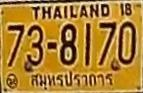0: (118, 20, 135, 63)
1: (84, 23, 90, 66)
3: (24, 24, 42, 66)
7: (98, 22, 116, 64), (7, 24, 23, 66)
8: (60, 23, 76, 64)
SPK: (26, 67, 118, 90)
